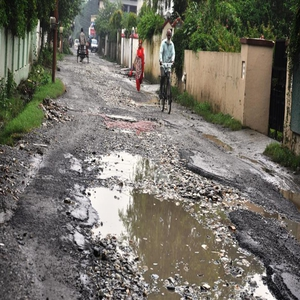pothole: (81, 148, 278, 300)
